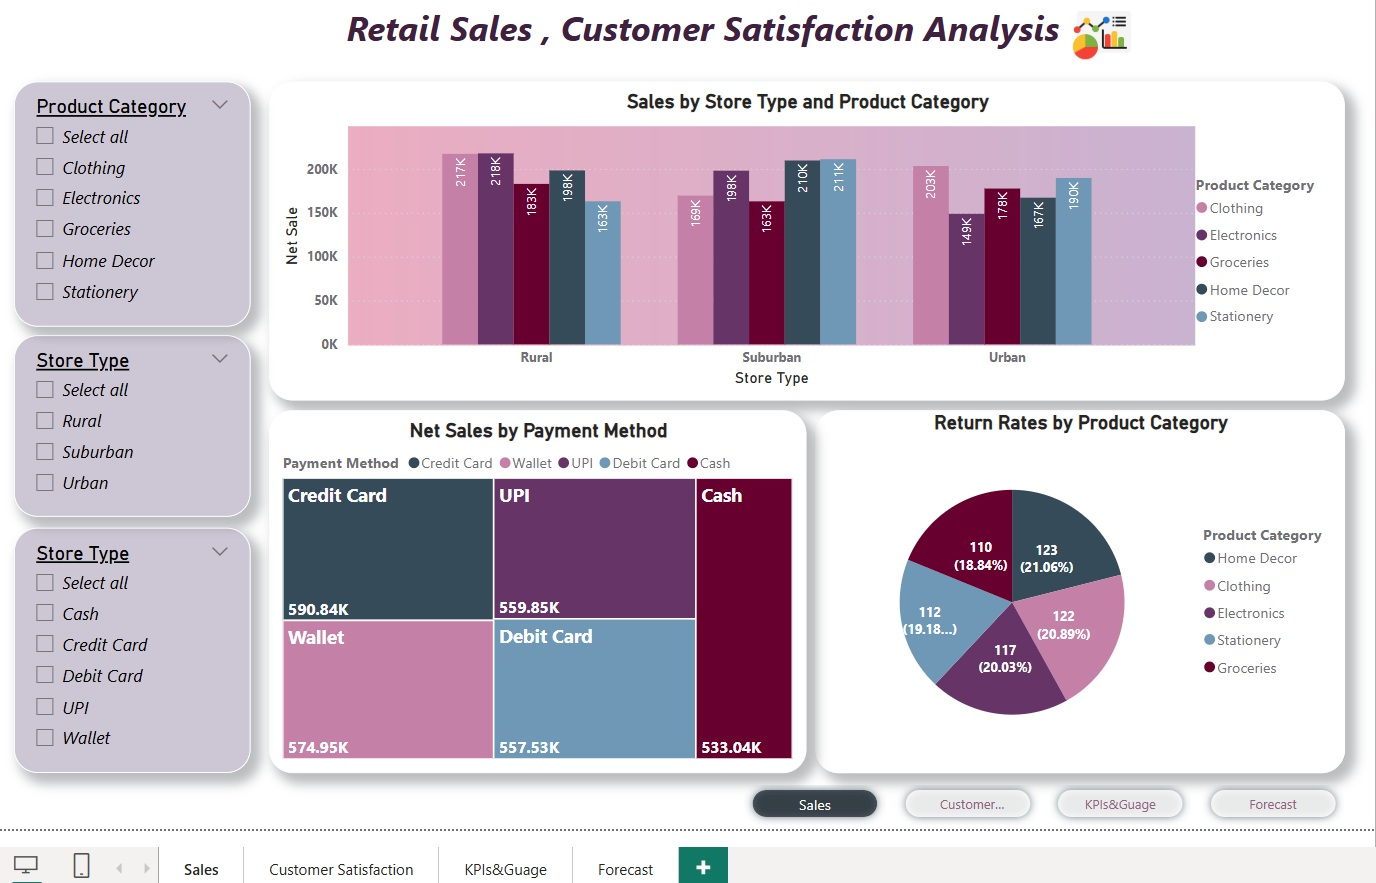

The dashboard page shown, as its layout file describes it:
{"tool":"powerbi","page":{"name":"Sales","canvas":[1280,773],"ordinal":0},"visuals":[{"type":"clusteredColumnChart","title":"Sales by Store Type and Product Category","fields":{"Y":["Sum(retail_sales_customer_satisfact.Net Sale)"],"Category":["retail_sales_customer_satisfact.Store_Type"],"Series":["retail_sales_customer_satisfact.Product_Category"]},"box":[251.2,76.7,1001.2,296.5],"z":0},{"type":"textbox","box":[0,0,1269.8,60.5],"z":1000},{"type":"slicer","fields":{"Values":["retail_sales_customer_satisfact.Product_Category"]},"box":[14,76.7,219.8,227.9],"z":2000},{"type":"pieChart","title":"Return Rates by Product Category","fields":{"Category":["retail_sales_customer_satisfact.Product_Category"],"Y":["retail_sales_customer_satisfact.Return_Count"]},"box":[759.3,382.6,493,337.2],"z":3000},{"type":"slicer","fields":{"Values":["retail_sales_customer_satisfact.Store_Type"]},"box":[14,312.8,219.8,168.6],"z":4000},{"type":"treemap","title":"Net Sales by Payment Method","fields":{"Group":["retail_sales_customer_satisfact.Payment_Method"],"Values":["Sum(retail_sales_customer_satisfact.Net Sale)"]},"box":[251.2,382.6,500,337.2],"z":5000},{"type":"slicer","fields":{"Values":["retail_sales_customer_satisfact.Payment_Method"]},"box":[14,491.9,219.8,227.9],"z":6000},{"type":"pageNavigator","box":[693,727.9,559.3,41.9],"z":7000},{"type":"image","box":[990.7,0,70.9,67.4],"z":8000}]}

Visuals, with their boxes on the page's 1280x773 design canvas (x1, y1, x2, y2). These are canvas units, not pixel positions in the 1376x883 screenshot, which may show the page scaled, cropped or inside an application window:
"Sales by Store Type and Product Category" clusteredColumnChart: BBox(251, 77, 1252, 373)
textbox: BBox(0, 0, 1270, 60)
slicer - retail_sales_customer_satisfact.Product_Category: BBox(14, 77, 234, 305)
"Return Rates by Product Category" pieChart: BBox(759, 383, 1252, 720)
slicer - retail_sales_customer_satisfact.Store_Type: BBox(14, 313, 234, 481)
"Net Sales by Payment Method" treemap: BBox(251, 383, 751, 720)
slicer - retail_sales_customer_satisfact.Payment_Method: BBox(14, 492, 234, 720)
pageNavigator: BBox(693, 728, 1252, 770)
image: BBox(991, 0, 1062, 67)
